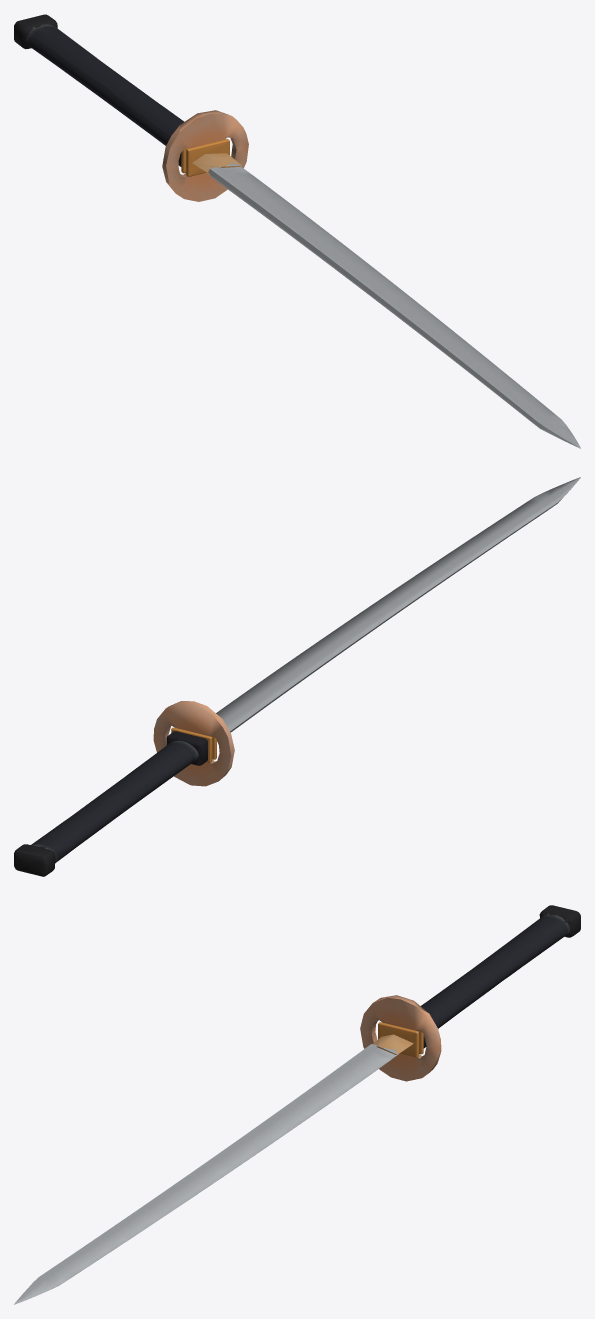
File: katana_godot.glb
3 views of the same model, one above another, from view 1: azimuth 30°, elevation 25°; view 2: azimuth 150°, elevation 25°; view 3: azimuth 330°, elevation 25° (orthographic). The views are drawn at different scales.
Parts seen in each view (by area): view 1: SM_katana_Body; view 2: SM_katana_Body; view 3: SM_katana_Body.
Part boxes in pixels (x1,y1,x2,y2): SM_katana_Body: (14,14,580,448); SM_katana_Body: (14,477,580,876); SM_katana_Body: (14,905,580,1304).
Size of what is drawn, in the model's own units: 0.0825 by 0.0823 by 0.98.
1 material, 1 textured.
